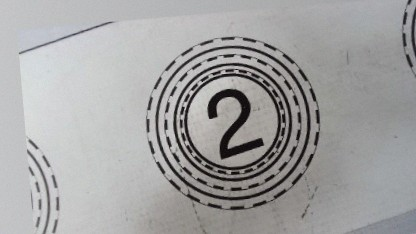2r: (135, 28, 329, 218)
